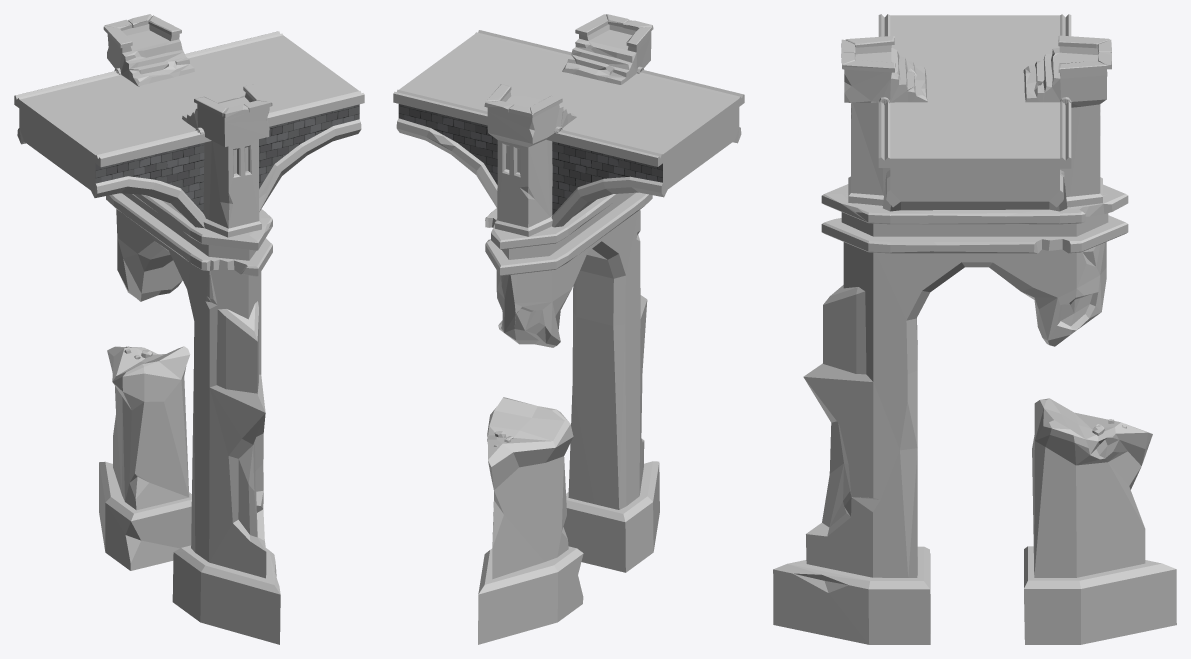
The model's file is SM_Bld_Bridge_Base_01_Damaged_01.fbx.
The picture shows the model from 3 angles, left to right: view 1: azimuth 30°, elevation 25°; view 2: azimuth 150°, elevation 25°; view 3: azimuth 270°, elevation 25°; orthographic projection. The views are drawn at different scales.
Visible parts, largest first — view 1: SM_Bld_Bridge_Base_01_Damaged_01; view 2: SM_Bld_Bridge_Base_01_Damaged_01; view 3: SM_Bld_Bridge_Base_01_Damaged_01.
Part boxes in pixels (<box>): SM_Bld_Bridge_Base_01_Damaged_01: <box>14,14,364,644</box>; SM_Bld_Bridge_Base_01_Damaged_01: <box>393,14,744,644</box>; SM_Bld_Bridge_Base_01_Damaged_01: <box>773,14,1176,644</box>.
Size of the model in its own units: 1002 by 1862 by 1190.
